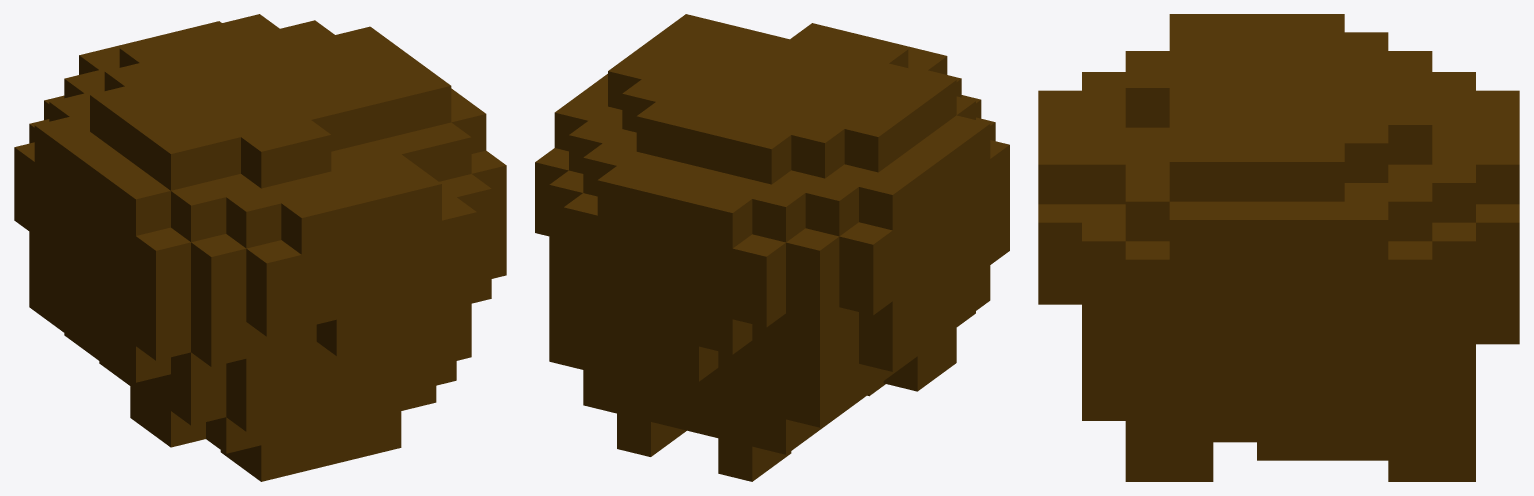
The model's file is bear_body.fbx.
3 views of the same model, side by side, from view 1: azimuth 30°, elevation 25°; view 2: azimuth 150°, elevation 25°; view 3: azimuth 270°, elevation 25° (orthographic). The views are drawn at different scales.
Parts seen in each view (by area): view 1: bear_body; view 2: bear_body; view 3: bear_body.
Part boxes in pixels (box(x1,y1,x2,y2)): bear_body: box(14, 14, 506, 481); bear_body: box(535, 14, 1009, 481); bear_body: box(1038, 14, 1519, 481).
Size of the model in its own units: 1 by 0.9 by 1.1.
